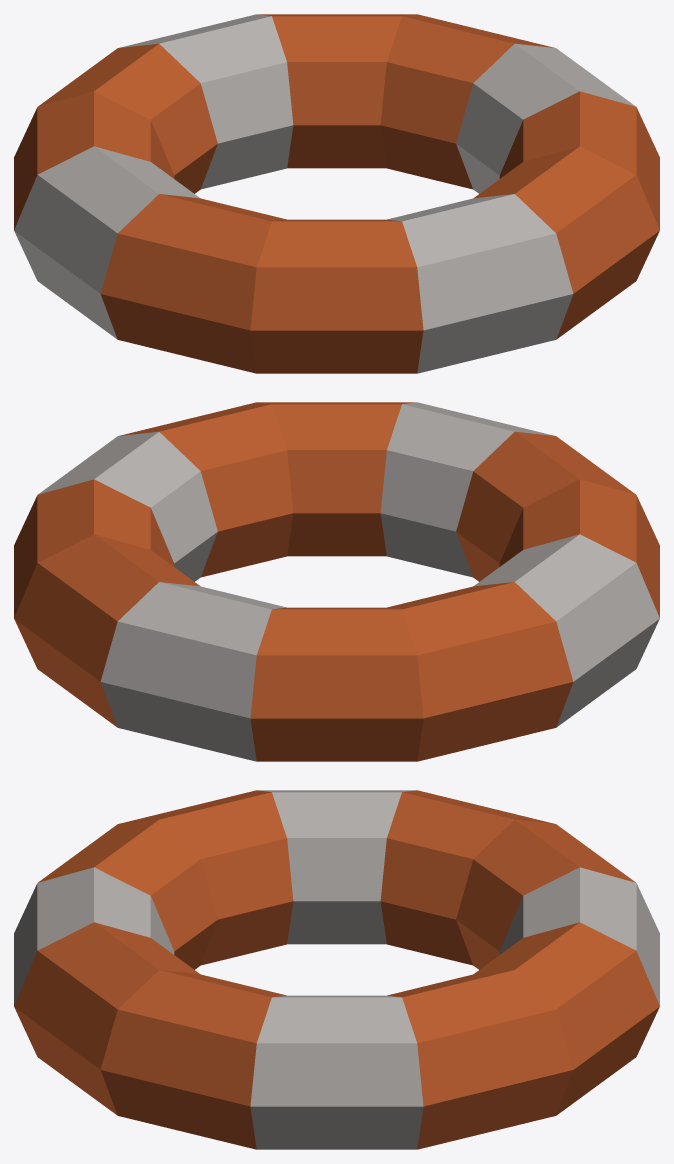
The model's file is SM_Props_City_Beach_Lifebelt_01.fbx.
The picture shows the model from 3 angles, top to bottom: view 1: azimuth 30°, elevation 25°; view 2: azimuth 150°, elevation 25°; view 3: azimuth 270°, elevation 25°; orthographic projection.
Parts seen in each view (by area): view 1: SM_Props_City_Beach_Lifebelt_01; view 2: SM_Props_City_Beach_Lifebelt_01; view 3: SM_Props_City_Beach_Lifebelt_01.
Part boxes in pixels (x1,y1,x2,y2): SM_Props_City_Beach_Lifebelt_01: [14, 14, 659, 373]; SM_Props_City_Beach_Lifebelt_01: [14, 402, 659, 761]; SM_Props_City_Beach_Lifebelt_01: [14, 790, 659, 1149].
Size of the model in its own units: 128 by 33 by 128.
